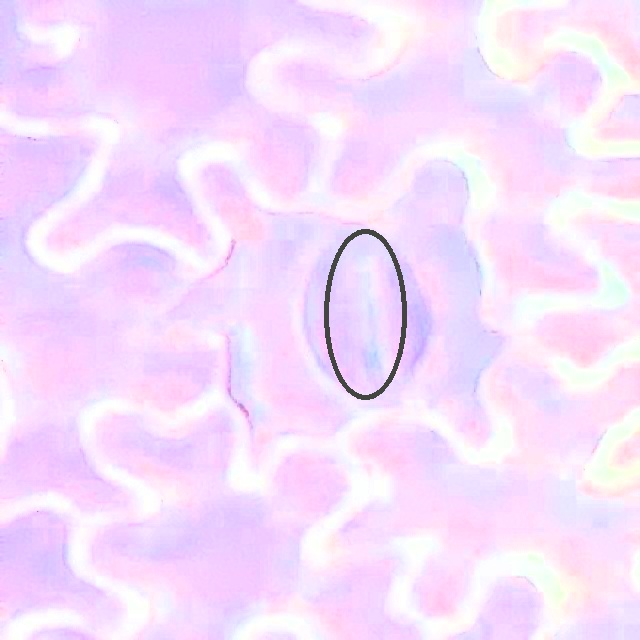open: (323, 229, 407, 400)
